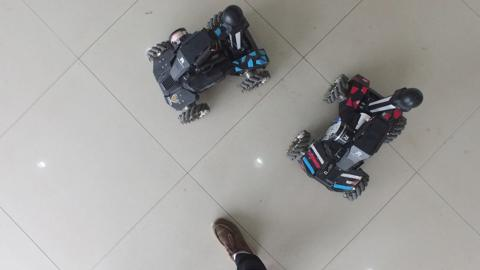chariot: (274, 66, 430, 211), (141, 1, 275, 131)
